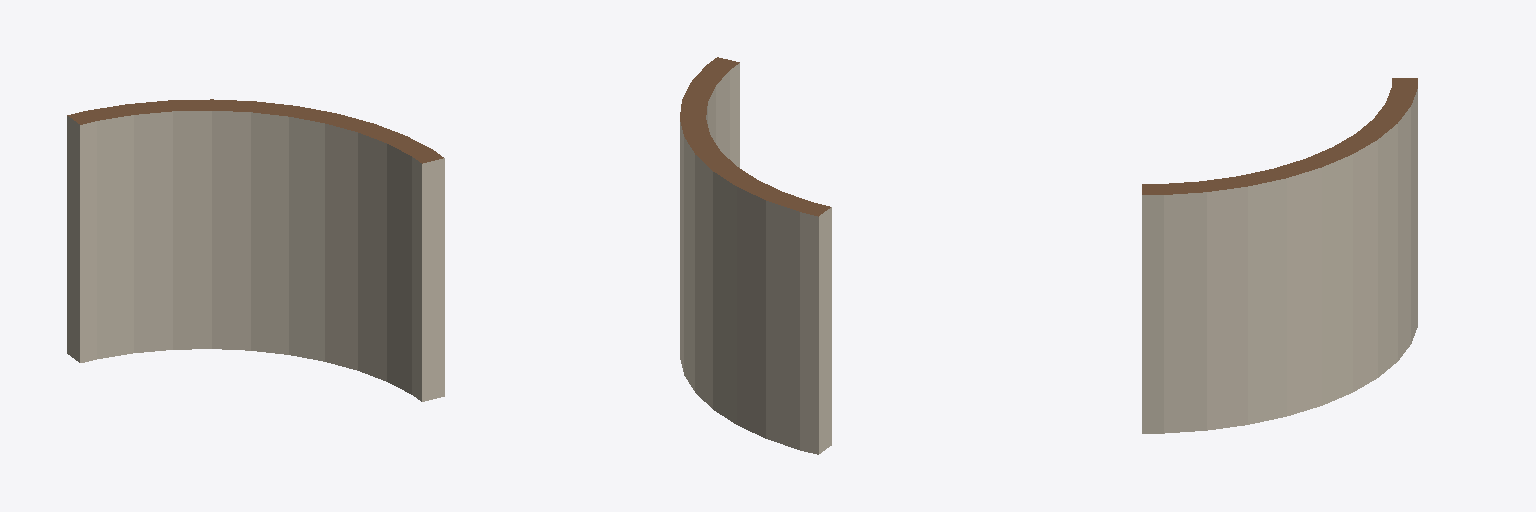
The model's file is Structure_Wall_Curved_Small_Main.obj.
The picture shows the model from 3 angles: view 1: azimuth 30°, elevation 25°; view 2: azimuth 150°, elevation 25°; view 3: azimuth 270°, elevation 25°; orthographic projection.
Parts seen in each view (by area): view 1: object1; view 2: object1; view 3: object1.
Boxes of the visible parts, <box> form: object1: <box>67,99,444,401</box>; object1: <box>680,57,831,454</box>; object1: <box>1142,78,1417,433</box>.
Bounding box in the file's own units: 1.05 × 1 × 1.05.